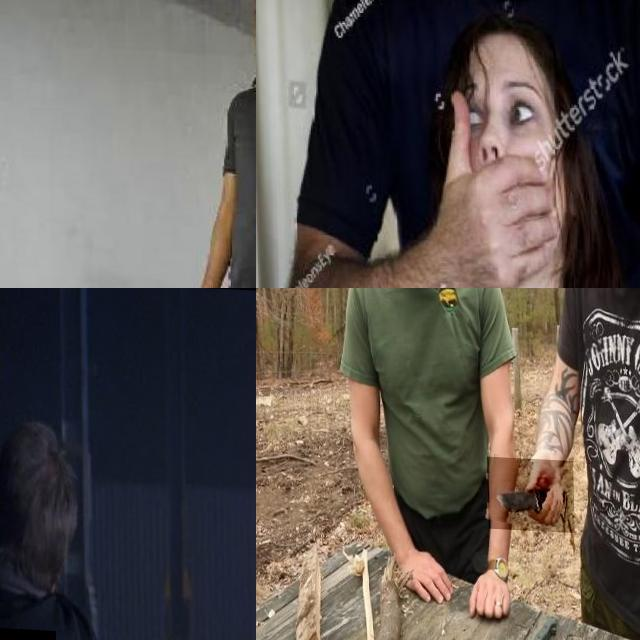-: (485, 453, 573, 529)
